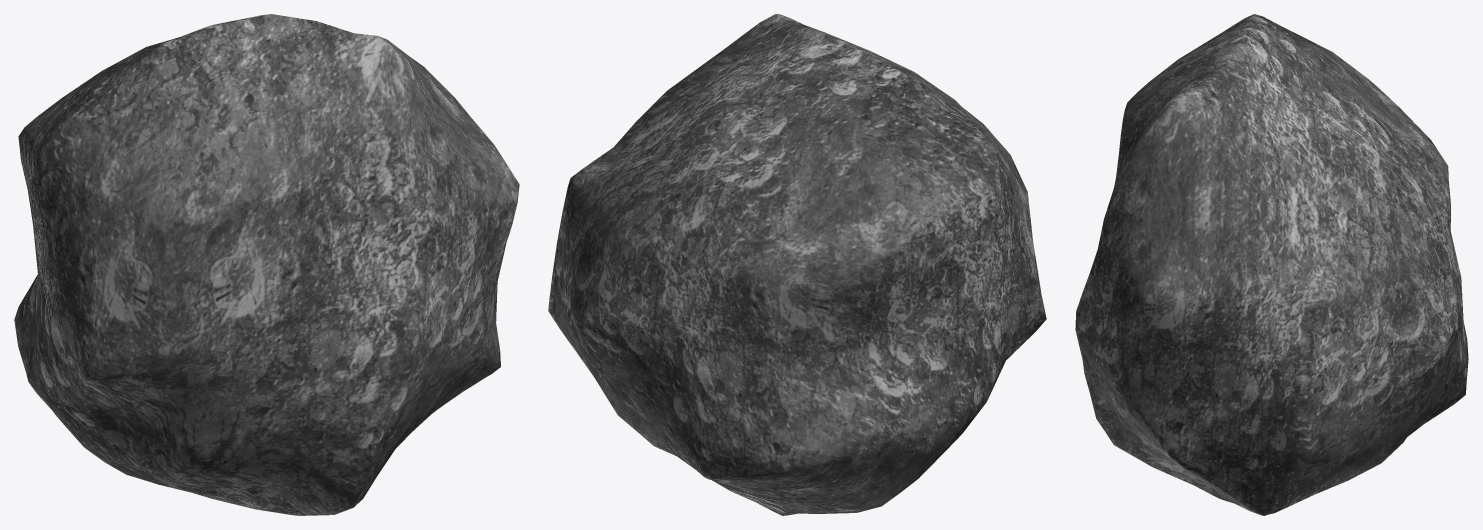
Rendered from Asteroid_Small_4.obj.
3 renders of one model, left to right at view 1: azimuth 30°, elevation 25°; view 2: azimuth 150°, elevation 25°; view 3: azimuth 270°, elevation 25°, orthographic. The views are drawn at different scales.
Parts seen in each view (by area): view 1: Aster_Small_4__Cube.014; view 2: Aster_Small_4__Cube.014; view 3: Aster_Small_4__Cube.014.
Boxes of the visible parts, x1,y1,x2,y2 form: Aster_Small_4__Cube.014: (14,14,519,515); Aster_Small_4__Cube.014: (548,14,1046,515); Aster_Small_4__Cube.014: (1075,14,1468,515).
Bounding box in the file's own units: 1.24 × 1.26 × 1.
1 material, 1 textured.
